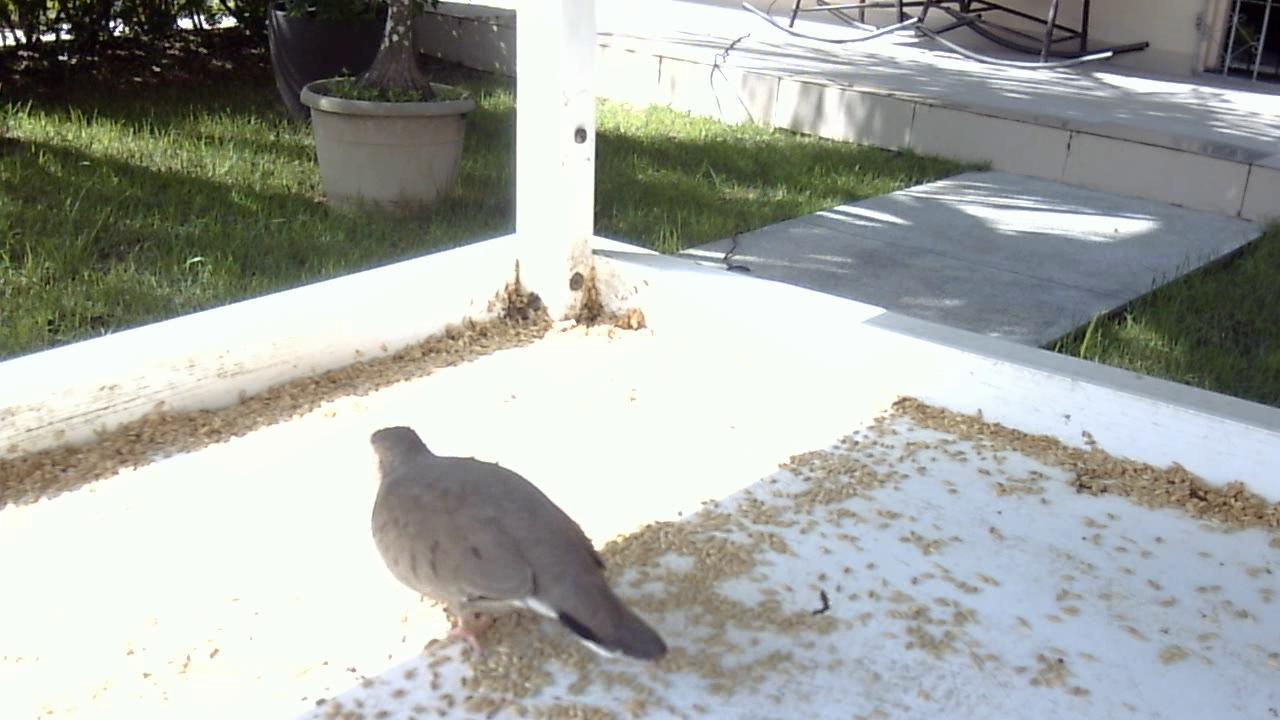rolinha: (353, 397, 676, 672)
